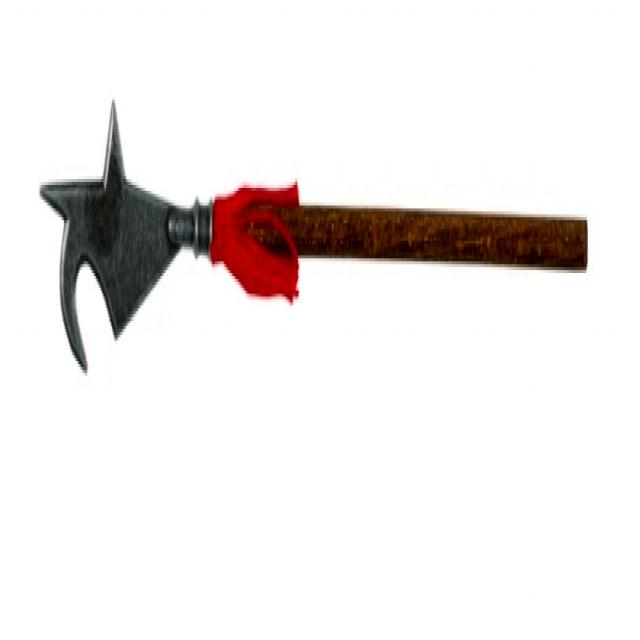spear: (27, 86, 590, 409)
